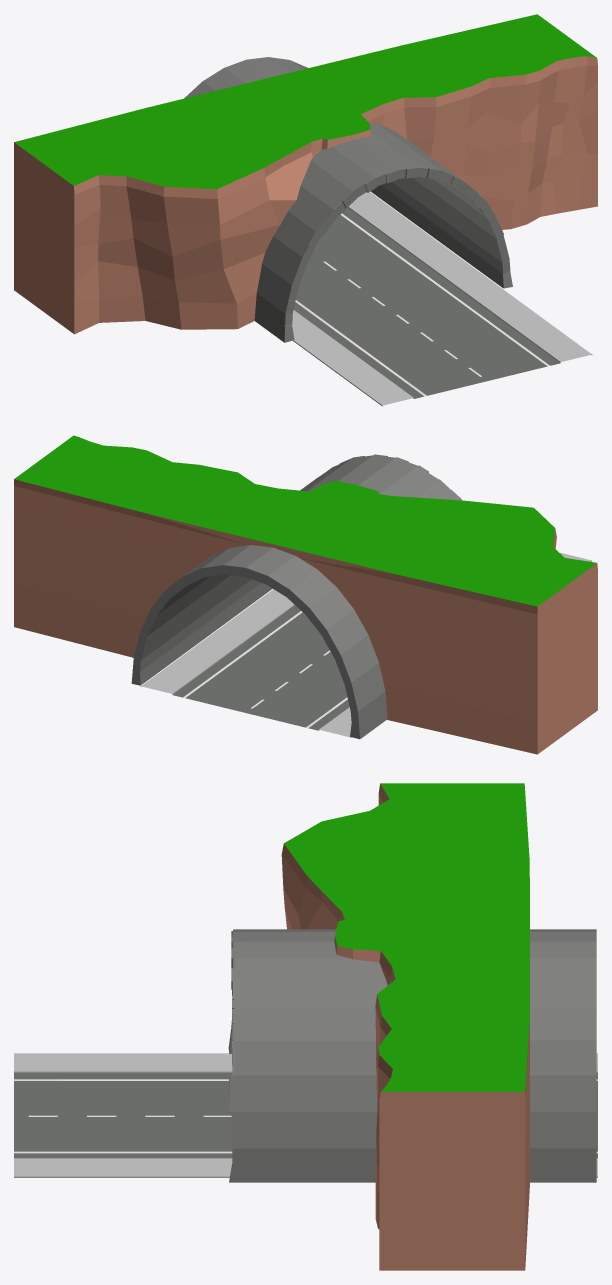
Rendered from Tunnel.fbx.
3 views of the same model, one above another, from view 1: azimuth 30°, elevation 25°; view 2: azimuth 150°, elevation 25°; view 3: azimuth 270°, elevation 25° (orthographic). The views are drawn at different scales.
Parts seen in each view (by area): view 1: Plane.003, Plane.004; view 2: Plane.003, Plane.004; view 3: Plane.003, Plane.004.
Boxes of the visible parts, left/top/right/bottom form: Plane.003: left=14, top=14, right=597, bottom=342; Plane.004: left=292, top=192, right=592, bottom=406; Plane.003: left=14, top=435, right=597, bottom=754; Plane.004: left=140, top=553, right=591, bottom=737; Plane.003: left=228, top=783, right=596, bottom=1270; Plane.004: left=14, top=1053, right=597, bottom=1177.
Bounding box in the file's own units: 37.5 × 10.27 × 30.
